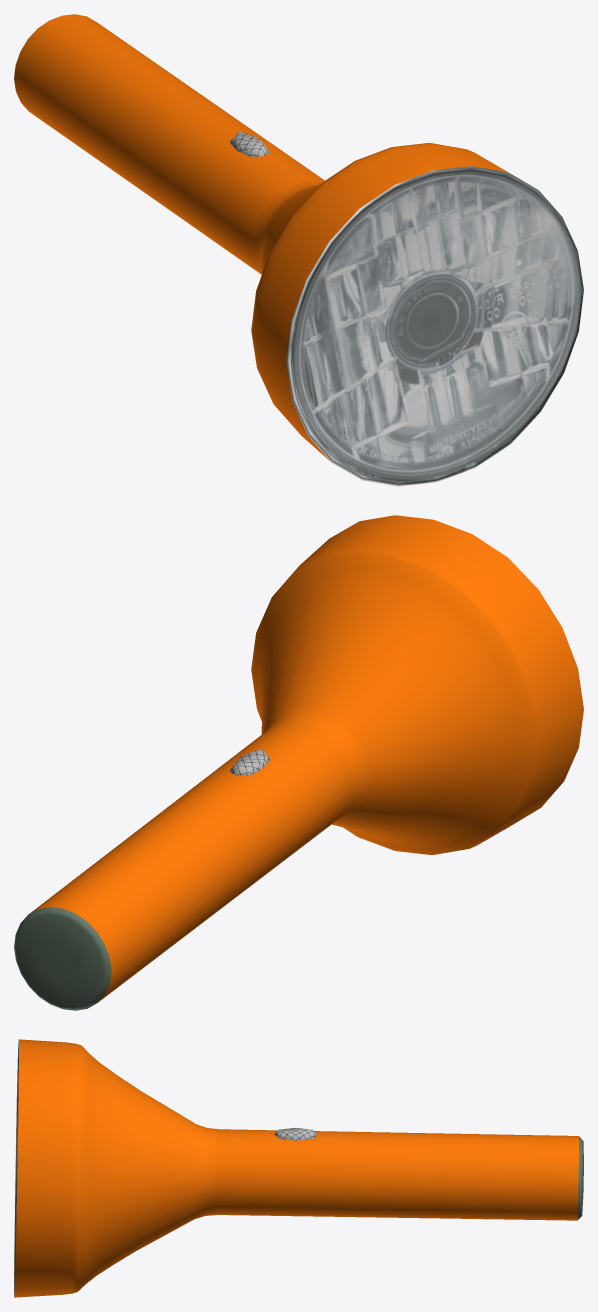
The model's file is lanterna.fbx.
3 renders of one model, top to bottom at view 1: azimuth 30°, elevation 25°; view 2: azimuth 150°, elevation 25°; view 3: azimuth 270°, elevation 25°, orthographic. The views are drawn at different scales.
Parts seen in each view (by area): view 1: pCylinder2; view 2: pCylinder2; view 3: pCylinder2.
Part boxes in pixels (box(x1,y1,x2,y2)): pCylinder2: box(14, 14, 583, 486); pCylinder2: box(14, 515, 583, 1010); pCylinder2: box(14, 1039, 583, 1297).
Size of the model in its own units: 3.28 by 3.26 by 7.21.
Materials: 2 (1 with a texture image).
